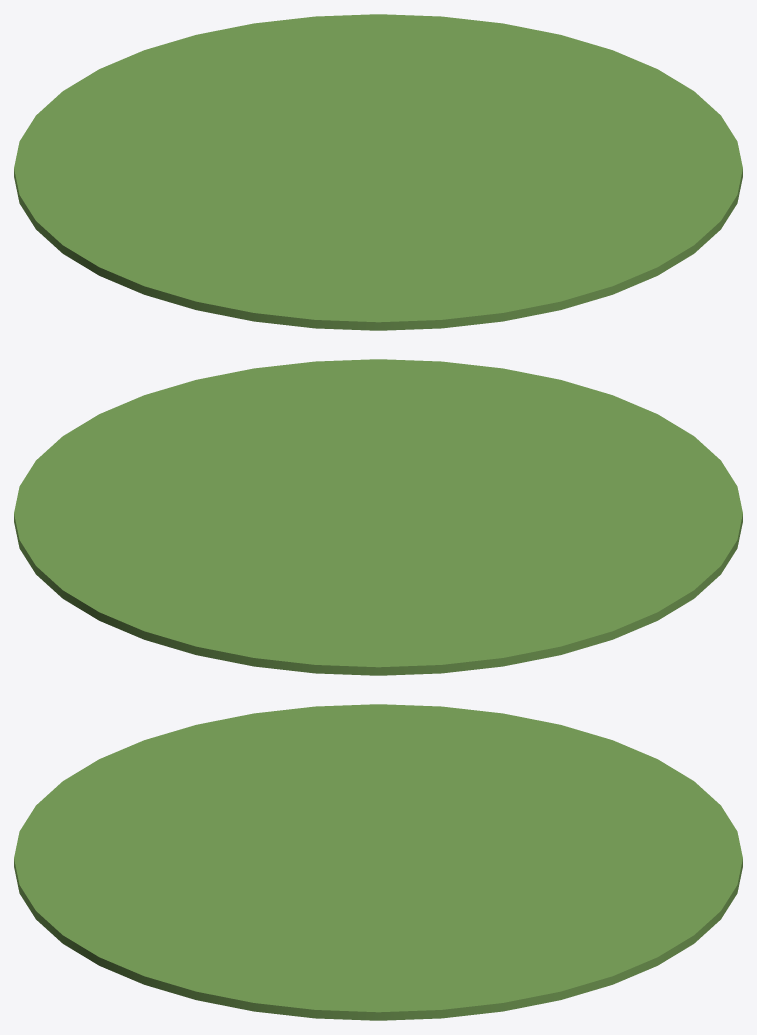
Rendered from Disc_3.fbx.
3 views of the same model, one above another, from view 1: azimuth 30°, elevation 25°; view 2: azimuth 150°, elevation 25°; view 3: azimuth 270°, elevation 25° (orthographic).
Parts seen in each view (by area): view 1: pCylinder8; view 2: pCylinder8; view 3: pCylinder8.
Part boxes in pixels (x1,y1,x2,y2): pCylinder8: (14,14,742,330); pCylinder8: (14,359,742,675); pCylinder8: (14,704,742,1020).
Bounding box in the file's own units: 8.13 × 0.1053 × 8.13.
